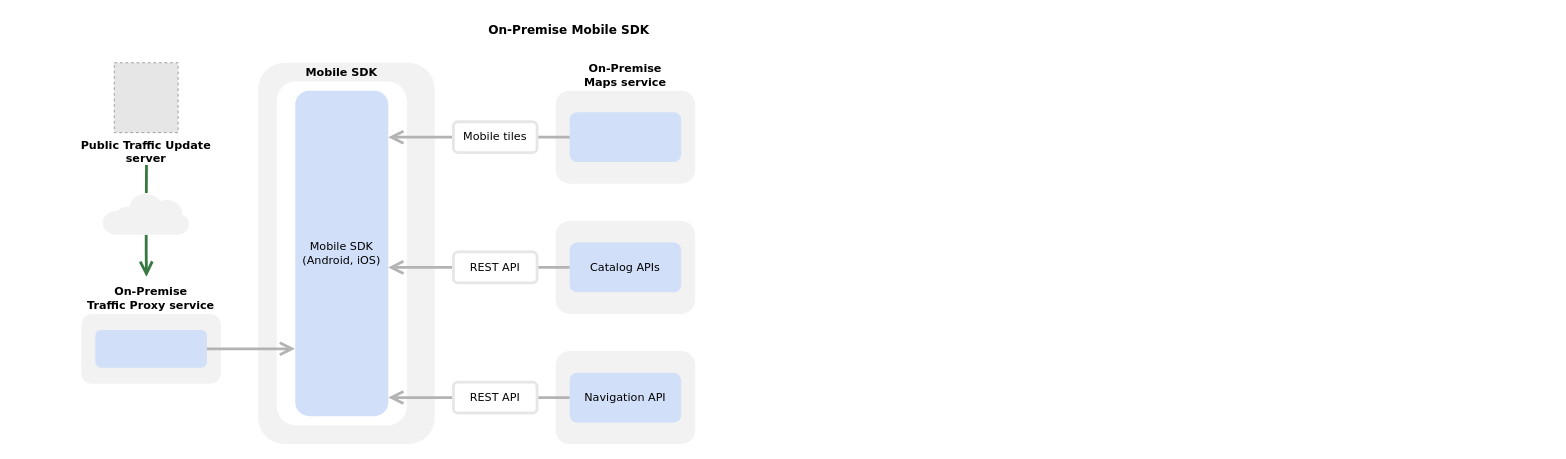
This 1566x459 diagram has some shape labels left out. Grey dashed boxes stand in for pictures. The box of each missing label's shape, as (x1, y1, x2, y2) in pixels:
Internet: (102, 193, 189, 234)
NGINX reverse proxy: (95, 329, 206, 367)
On-Premise Navigation service: (555, 351, 695, 444)
On-Premise Search service: (555, 220, 695, 313)
Tiles API: (569, 112, 681, 162)
